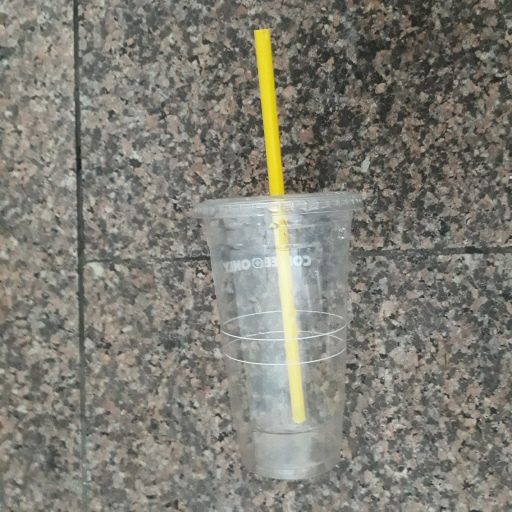Plastic_2: (193, 27, 366, 482)
